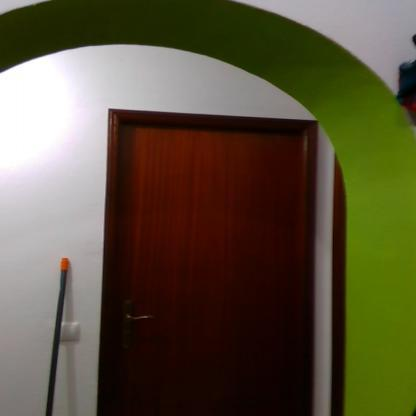door: (119, 122, 306, 416)
lever: (124, 313, 158, 324)
